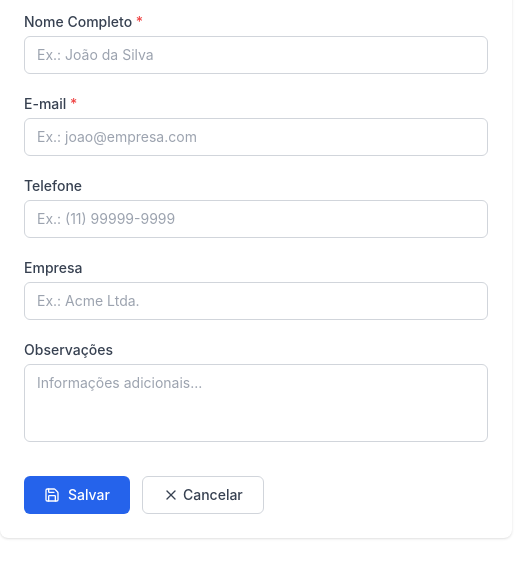
Test: ContatoForm — validação no submit › exibe erro de e-mail obrigatório quando submit sem e-mail
The width and height of the screenshot is (529, 576).
Type "João" into the field labelled "Nome Completo *" at (256, 55), box [24,36,488,74]
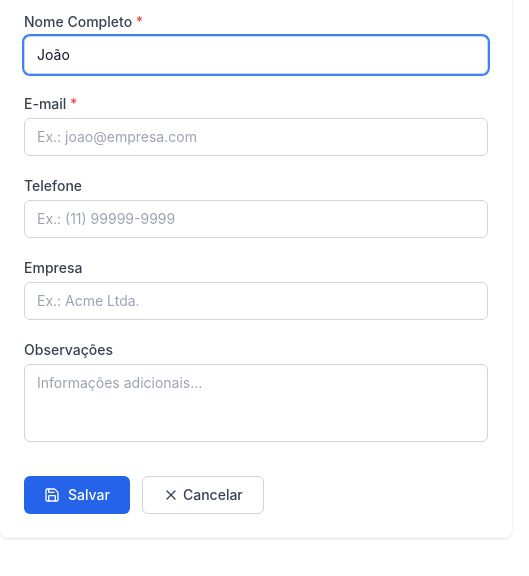
Click the button "Salvar" at (77, 495), box [24,476,130,514]
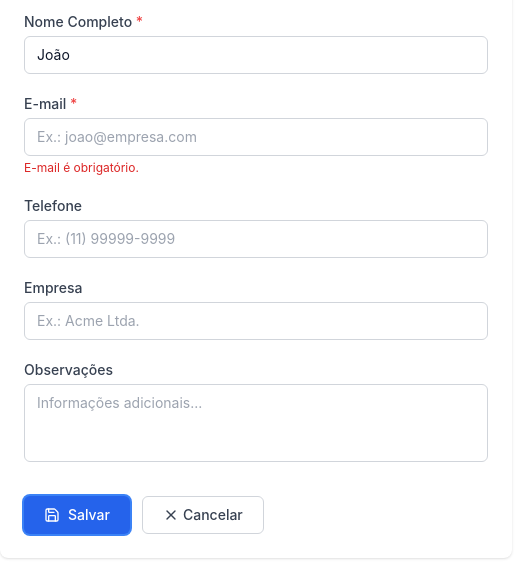
expect the text "E-mail é obrigatório." is shown: met, box [24,160,139,175]
